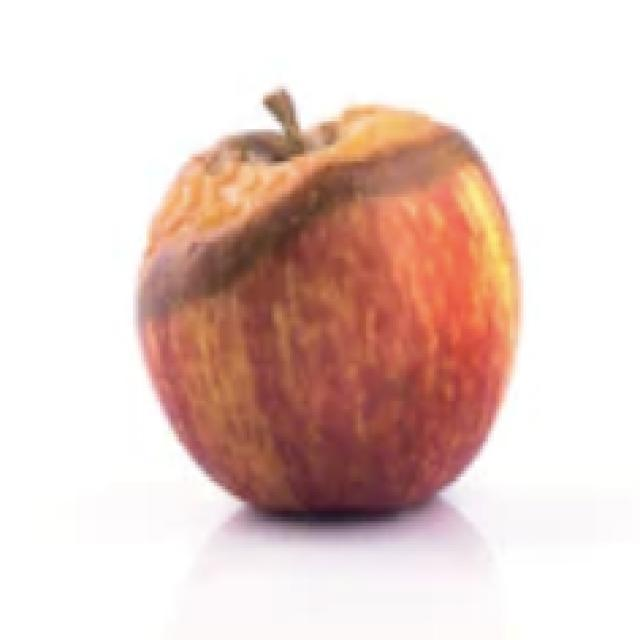Rotten: (127, 100, 525, 518)
